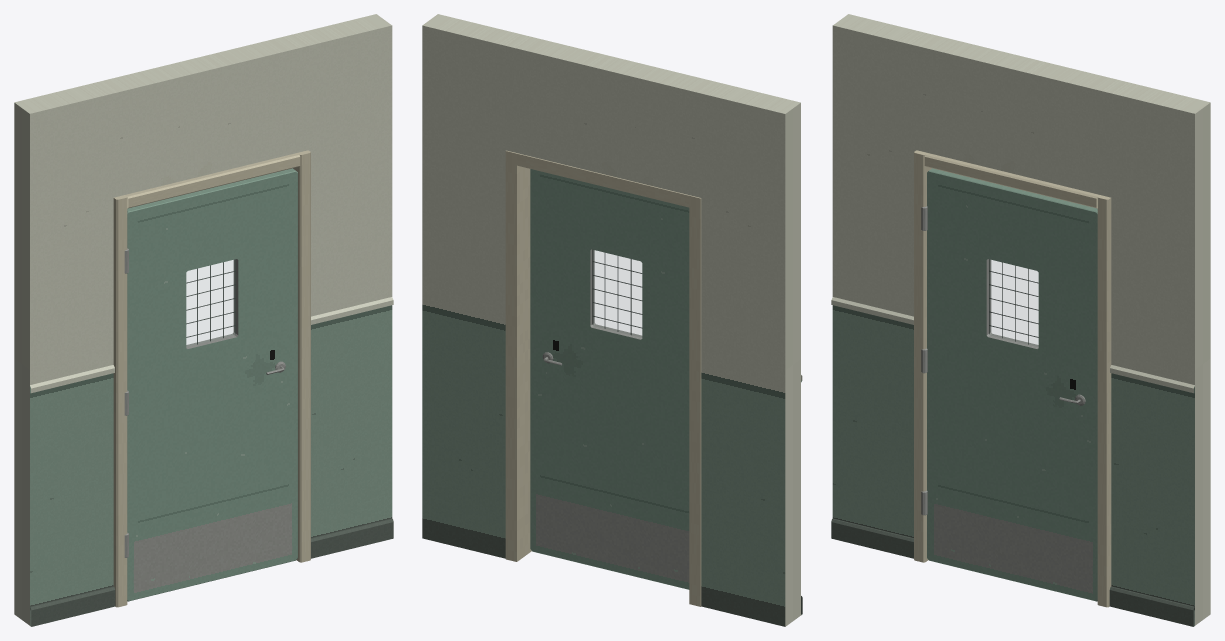
File: door_2a.glb
The picture shows the model from 3 angles, left to right: view 1: azimuth 30°, elevation 25°; view 2: azimuth 150°, elevation 25°; view 3: azimuth 330°, elevation 25°; orthographic projection.
Visible parts, largest first — view 1: leaf_faces, wall_left, wall_right, wall_lintel, frame_left, frame_right, door_glass, frame_top, leaf_edge, leaf_window_rim; view 2: leaf_faces, wall_left, wall_right, wall_lintel, frame_right, frame_left, door_glass, frame_top, leaf_window_rim, leaf_edge; view 3: leaf_faces, wall_right, wall_left, wall_lintel, frame_right, frame_left, door_glass, frame_top, leaf_edge, leaf_window_rim.
Boxes of the visible parts, x1=… form: leaf_faces: x1=127, y1=171, x2=297, y2=600; wall_left: x1=14, y1=81, x2=115, y2=626; wall_right: x1=291, y1=14, x2=393, y2=558; wall_lintel: x1=100, y1=35, x2=305, y2=196; frame_left: x1=113, y1=195, x2=127, y2=607; frame_right: x1=293, y1=150, x2=310, y2=562; door_glass: x1=186, y1=259, x2=235, y2=346; frame_top: x1=125, y1=153, x2=300, y2=208; leaf_edge: x1=127, y1=168, x2=297, y2=601; leaf_window_rim: x1=186, y1=259, x2=238, y2=348; leaf_faces: x1=530, y1=169, x2=689, y2=589; wall_left: x1=699, y1=81, x2=802, y2=626; wall_right: x1=422, y1=14, x2=523, y2=558; wall_lintel: x1=508, y1=35, x2=714, y2=197; frame_right: x1=505, y1=150, x2=531, y2=561; frame_left: x1=689, y1=195, x2=701, y2=606; door_glass: x1=592, y1=249, x2=642, y2=336; frame_top: x1=517, y1=153, x2=689, y2=207; leaf_window_rim: x1=590, y1=249, x2=642, y2=339; leaf_edge: x1=530, y1=169, x2=688, y2=589; leaf_faces: x1=927, y1=171, x2=1097, y2=600; wall_right: x1=1109, y1=81, x2=1210, y2=626; wall_left: x1=831, y1=14, x2=933, y2=558; wall_lintel: x1=919, y1=35, x2=1124, y2=196; frame_right: x1=1097, y1=195, x2=1111, y2=607; frame_left: x1=914, y1=150, x2=931, y2=562; door_glass: x1=989, y1=259, x2=1038, y2=346; frame_top: x1=924, y1=153, x2=1099, y2=208; leaf_edge: x1=927, y1=168, x2=1097, y2=601; leaf_window_rim: x1=986, y1=259, x2=1038, y2=348.
Bounding box in the file's own units: 2 × 2.7 × 0.2094.
Materials: 2 (2 with a texture image).
